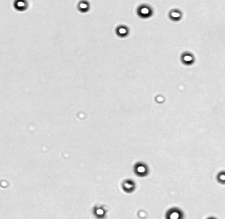Living Cell: (119, 176, 136, 193), (132, 161, 150, 177), (137, 3, 153, 19), (114, 24, 131, 38), (179, 51, 196, 65), (92, 204, 109, 217), (168, 8, 182, 21), (76, 1, 91, 13), (13, 1, 29, 11), (154, 93, 166, 104)
